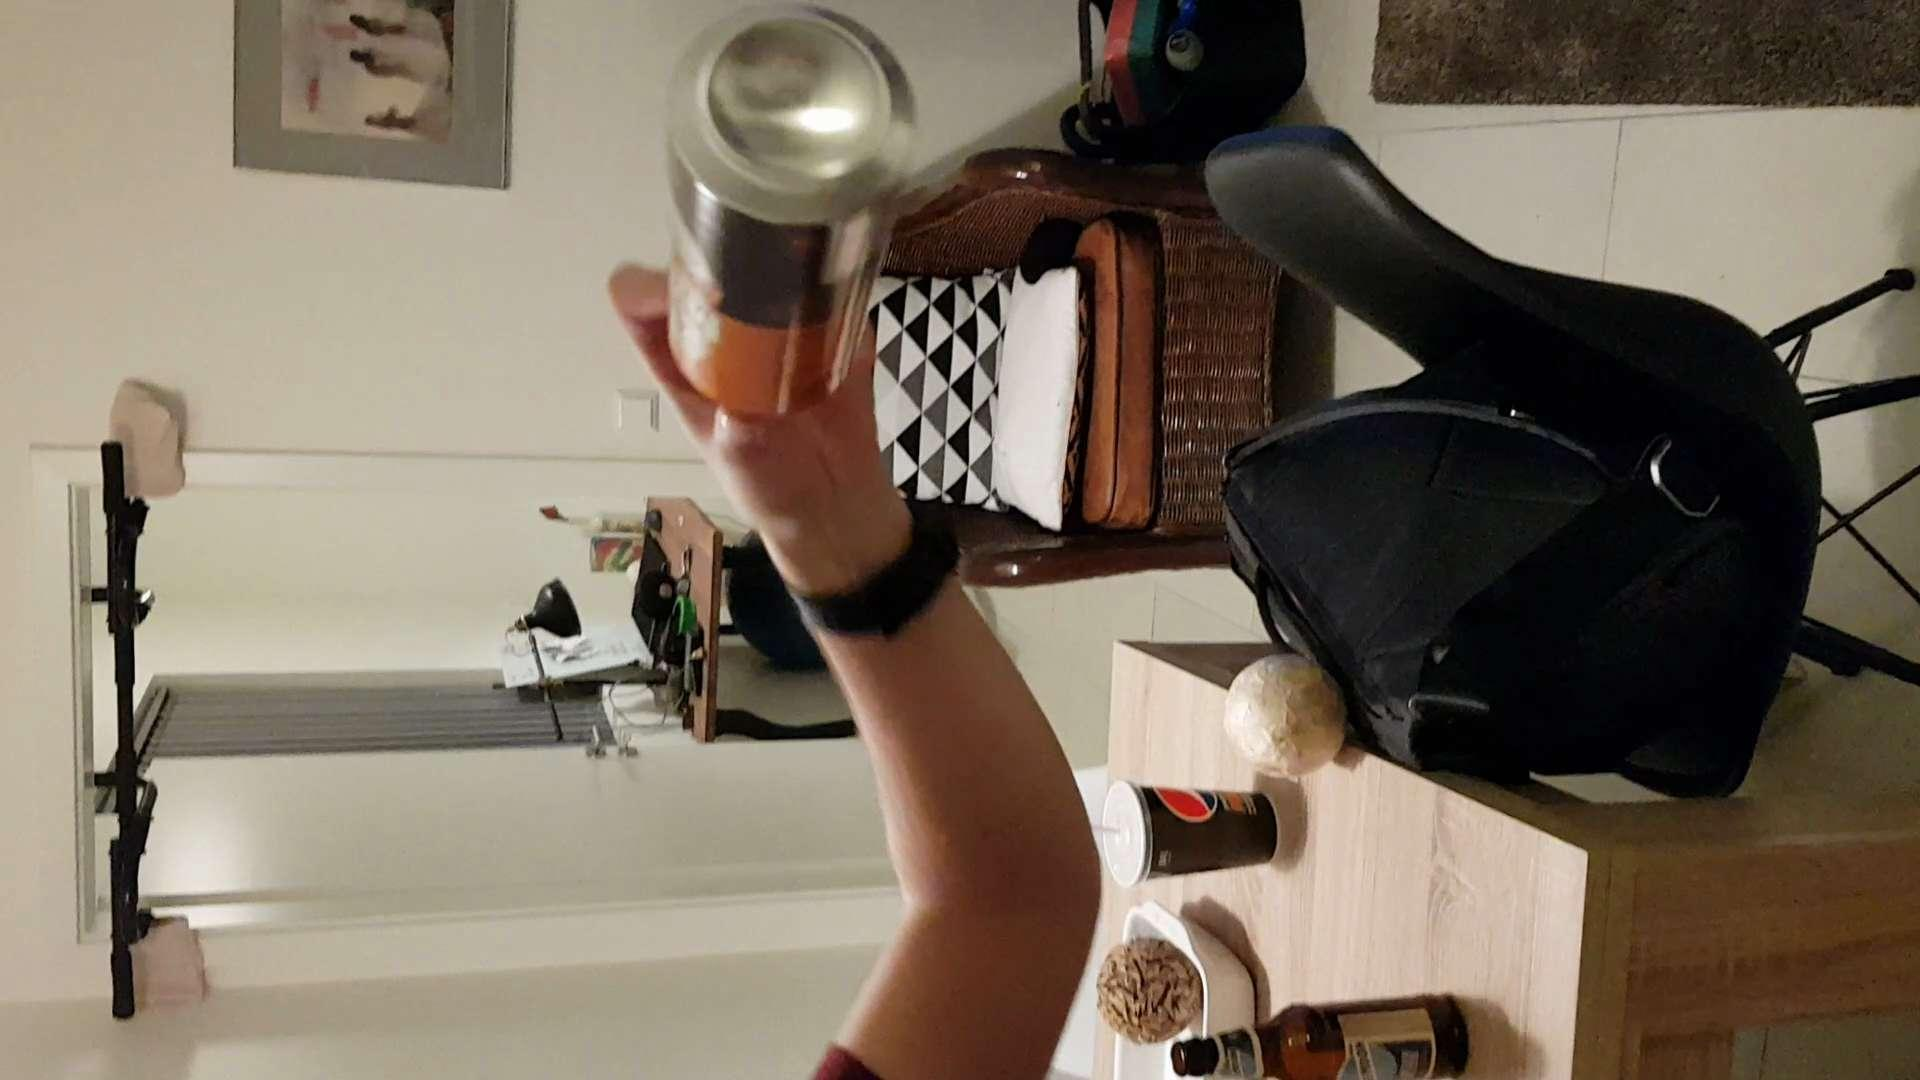Can: (655, 4, 919, 413)
